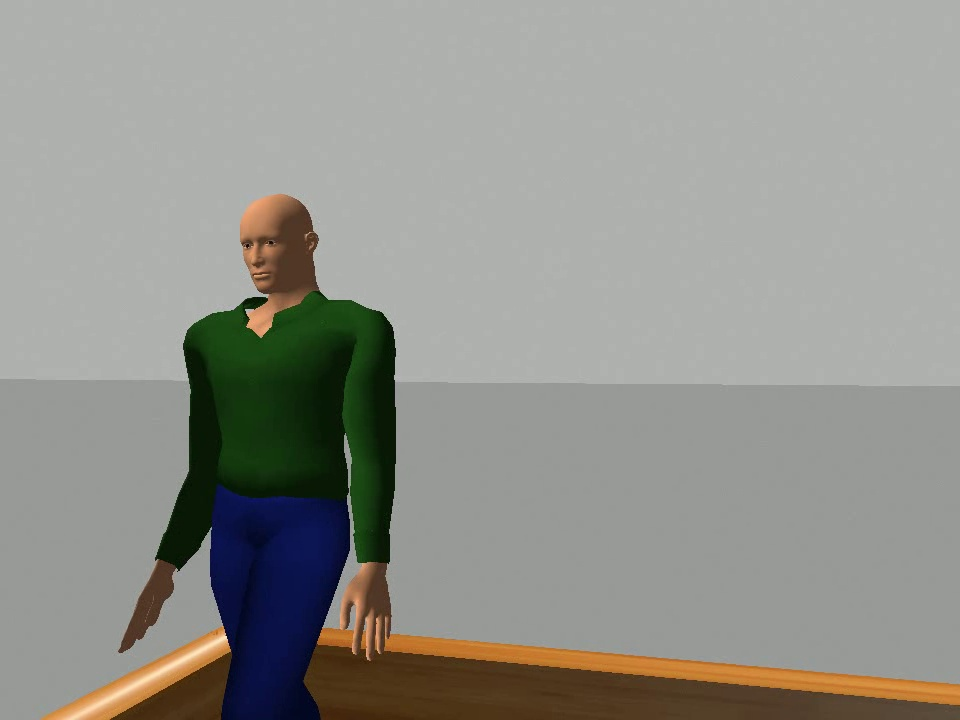person: (112, 188, 407, 720)
